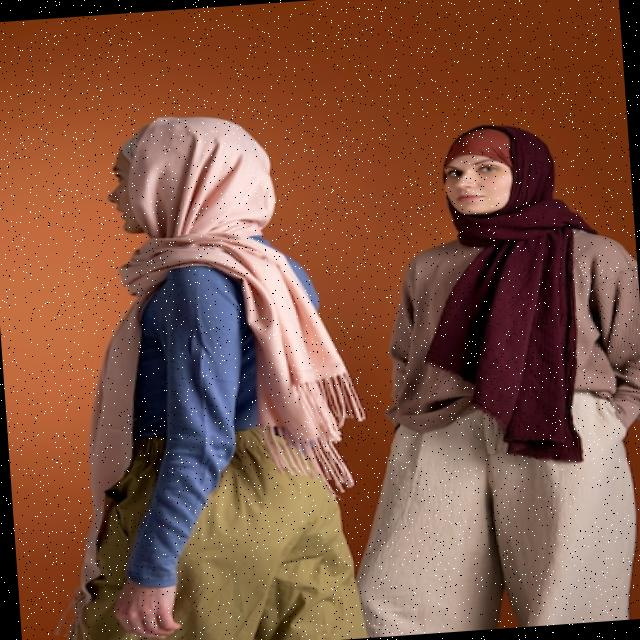Person: (10, 103, 367, 640), (324, 113, 640, 637)
